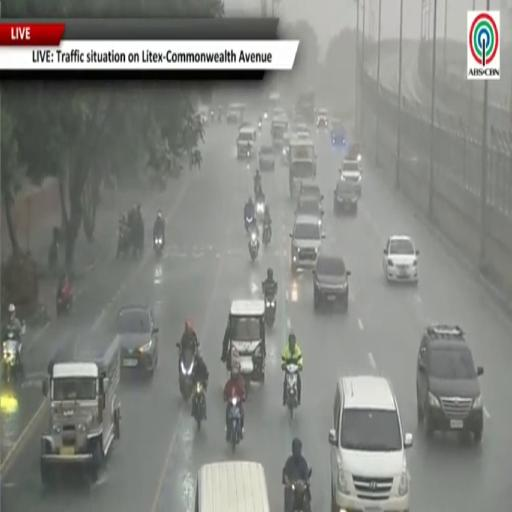car: (40, 339, 121, 486), (329, 376, 413, 511), (417, 325, 483, 442), (116, 306, 158, 375), (313, 254, 350, 311), (290, 216, 324, 274), (383, 235, 419, 283), (334, 176, 358, 215), (340, 159, 362, 198), (295, 199, 324, 227), (237, 125, 256, 158), (298, 180, 323, 205), (259, 141, 275, 170), (330, 119, 346, 147), (227, 104, 244, 123), (347, 142, 362, 162), (316, 108, 328, 129), (293, 123, 310, 137), (198, 106, 210, 125), (294, 132, 310, 139)
jeepney: (41, 338, 120, 485), (229, 300, 265, 383), (289, 139, 316, 198), (271, 117, 288, 151)
motorcycle: (285, 469, 311, 511), (2, 330, 20, 385), (227, 397, 241, 452), (179, 351, 194, 401), (286, 364, 299, 418), (192, 381, 205, 430), (56, 284, 73, 315), (117, 228, 131, 259), (265, 295, 276, 327), (248, 230, 259, 261), (262, 222, 271, 248), (154, 237, 164, 259), (256, 195, 264, 221), (245, 216, 255, 233), (210, 110, 214, 121), (258, 121, 261, 131)
